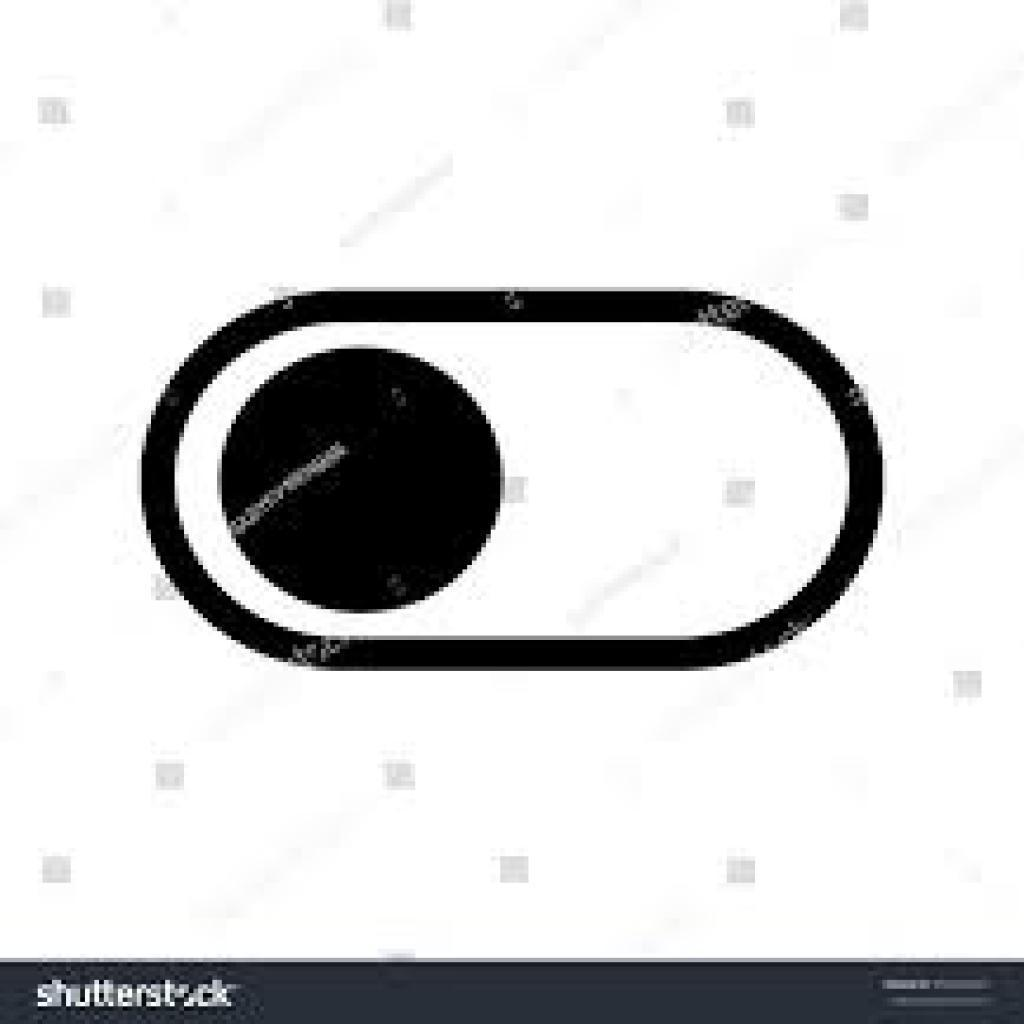switch: (114, 283, 894, 687)
